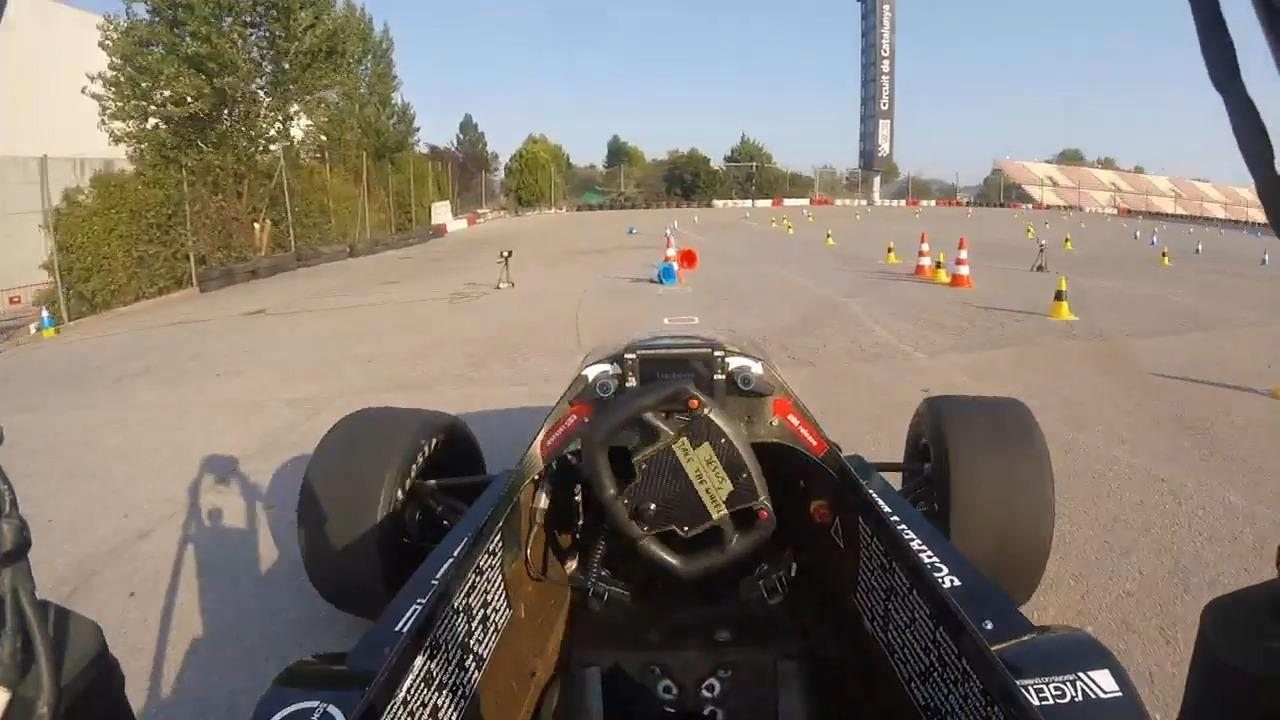blue_cone: (649, 262, 674, 285), (1259, 248, 1269, 266), (1193, 240, 1203, 254), (626, 223, 637, 235), (1151, 233, 1159, 247)
large_orange_cone: (949, 235, 975, 289), (909, 231, 934, 278), (661, 236, 685, 282), (668, 246, 701, 272)
yellow_cone: (1045, 272, 1077, 322), (932, 250, 950, 284), (883, 241, 900, 265), (1160, 244, 1172, 266), (822, 228, 835, 245), (1062, 231, 1072, 250), (1026, 224, 1034, 239), (787, 222, 794, 235), (769, 217, 777, 228), (781, 215, 788, 226), (808, 212, 814, 223)
